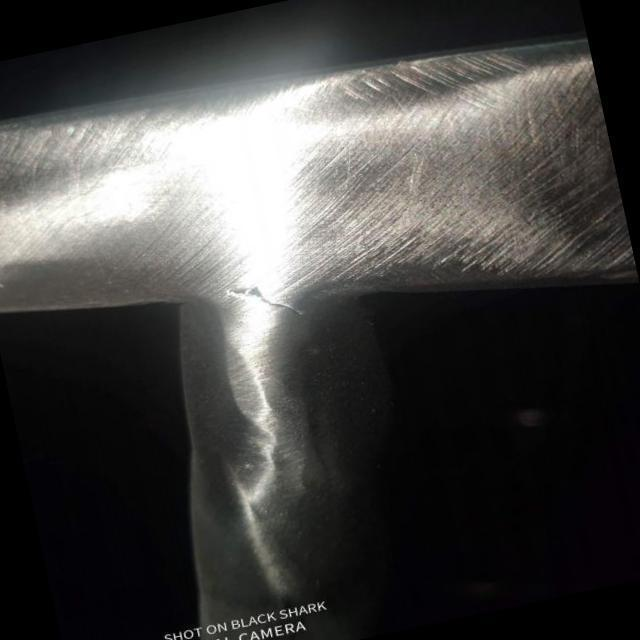defect: (226, 284, 305, 316)
